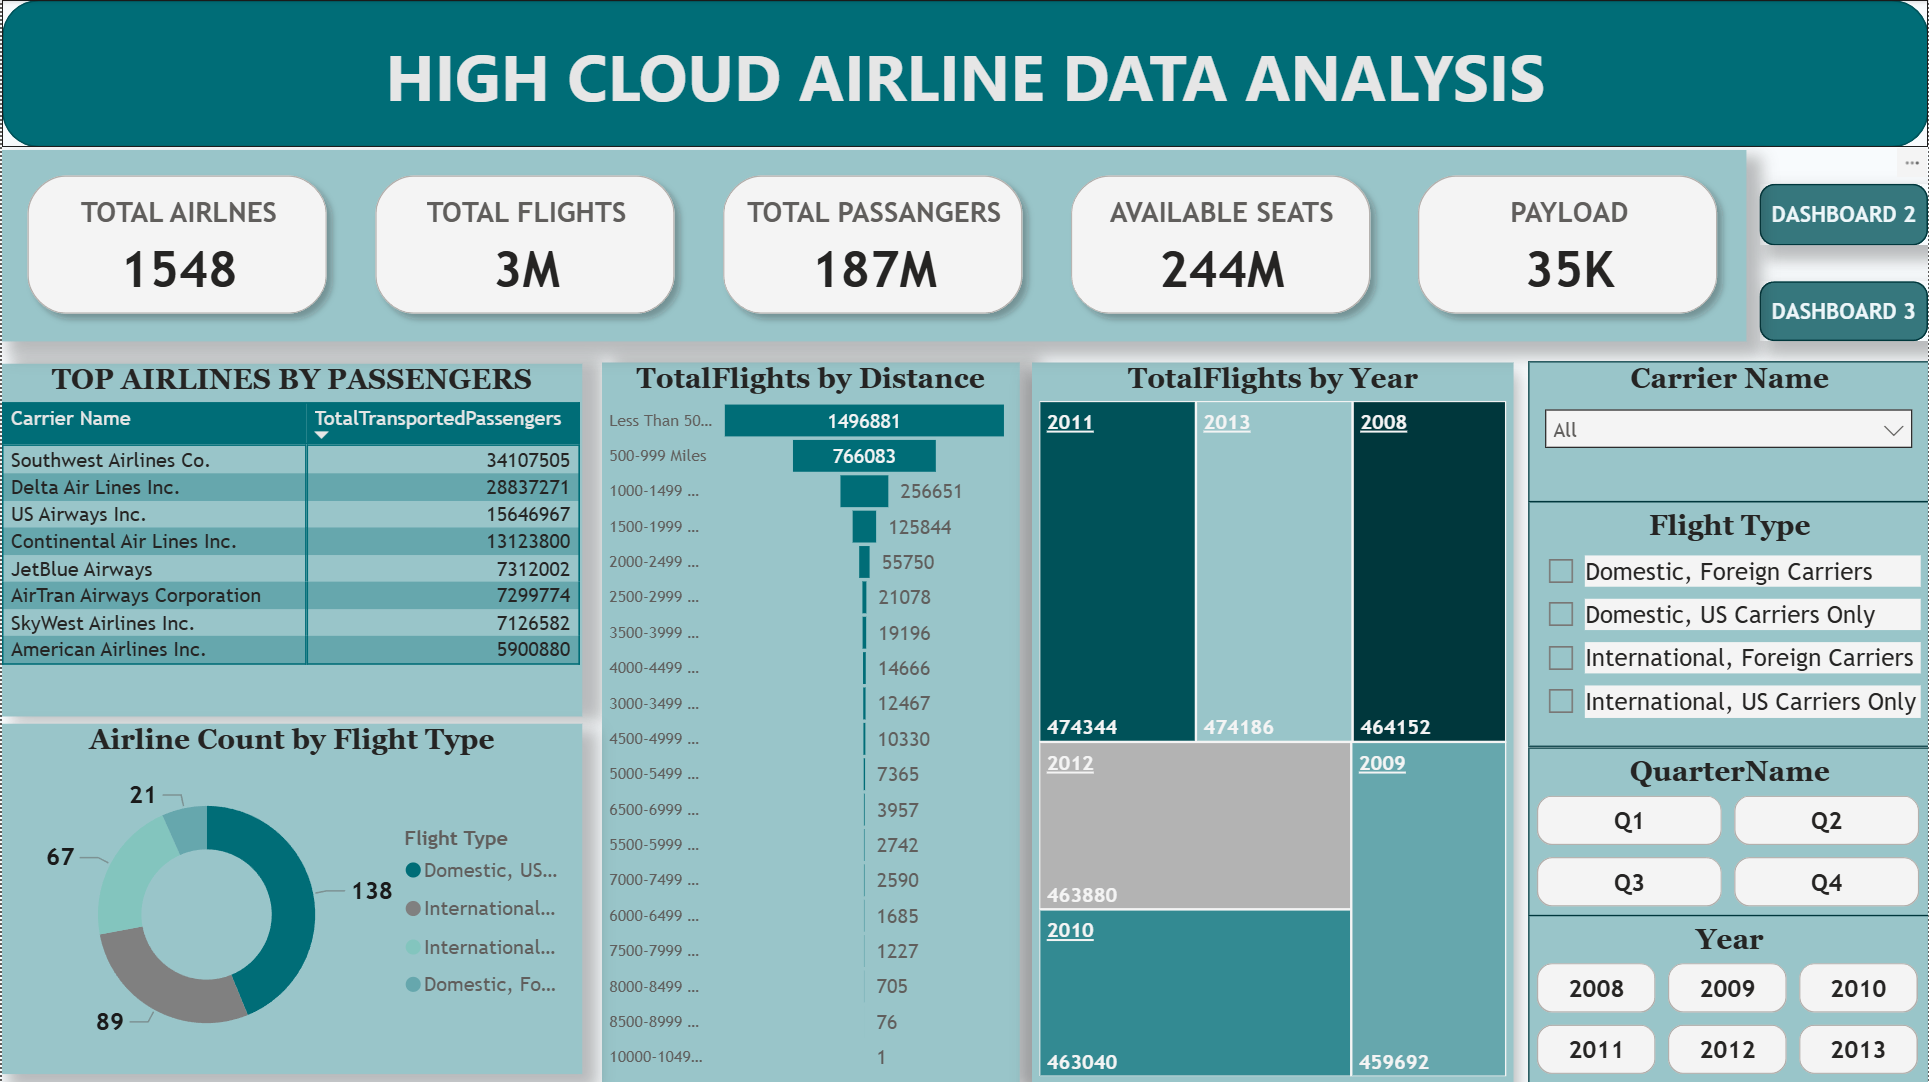

The dashboard page shown, as its layout file describes it:
{"tool":"powerbi","page":{"name":"DASHBOARD 1","canvas":[1280,720],"ordinal":0},"visuals":[{"type":"actionButton","box":[1168.1,121.9,112,41.1],"z":0},{"type":"actionButton","box":[1168.1,186.6,112,39.8],"z":1000},{"type":"pivotTable","title":"TOP AIRLINES BY PASSENGERS","fields":{"Rows":["MainData_Final.Carrier Name"],"Values":["MainData_Final.TotalTransportedPassengers"]},"box":[0,241.7,385.3,234.4],"z":2000},{"type":"funnel","title":"TotalFlights by Distance","fields":{"Category":["Distance Groups.Distance Interval"],"Y":["MainData_Final.TotalFlights"]},"box":[398.8,240.5,277.3,479.8],"z":3000},{"type":"shape","box":[0,0,1280.3,97.8],"z":4000},{"type":"treemap","fields":{"Group":["DateTable.Year"],"Values":["MainData_Final.TotalFlights"]},"box":[684.7,240.5,320.2,479.8],"z":5000},{"type":"donutChart","title":"Airline Count by Flight Type","fields":{"Category":["Flight Types.Flight Type"],"Y":["CountNonNull(Airlines.Airline ID)"]},"box":[0,481,385.3,233.1],"z":6000},{"type":"cardVisual","title":"TOTAL AIRLINE","fields":{"Data":["CountNonNull(Airlines.Airline ID)","MainData_Final.TotalFlights","MainData_Final.TotalTransportedPassengers","MainData_Final.TotalAvailableSeats","Count(MainData_Final.Payload)"]},"box":[0,99.5,1159.4,126.9],"z":7000},{"type":"advancedSlicerVisual","title":"Year","fields":{"Values":["DateTable.Year"]},"box":[1013.8,608.3,266.2,112],"z":8000},{"type":"slicer","title":"Flight Type ","fields":{"Values":["Flight Types.Flight Type"]},"box":[1013.8,333.4,266.2,163],"z":9000},{"type":"slicer","title":"Carrier Name","fields":{"Values":["MainData_Final.Carrier Name"]},"box":[1013.8,240.1,266.2,93.3],"z":10000},{"type":"advancedSlicerVisual","fields":{"Values":["DateTable.QuarterName"]},"box":[1013.8,496.3,266.2,112],"z":11000}]}

Visuals, with their boxes in screenshot pixels (x1, y1, x2, y2), scaled from the page's 1280x720 canvas onto the 1929x1082 screenshot:
actionButton: region(1760, 183, 1928, 245)
actionButton: region(1760, 280, 1928, 340)
"TOP AIRLINES BY PASSENGERS" pivotTable: region(0, 363, 581, 715)
"TotalFlights by Distance" funnel: region(601, 361, 1019, 1081)
shape: region(0, 0, 1928, 147)
treemap - DateTable.Year x MainData_Final.TotalFlights: region(1032, 361, 1514, 1081)
"Airline Count by Flight Type" donutChart: region(0, 723, 581, 1073)
"TOTAL AIRLINE" cardVisual: region(0, 150, 1747, 340)
"Year" advancedSlicerVisual: region(1528, 914, 1928, 1081)
"Flight Type " slicer: region(1528, 501, 1928, 746)
"Carrier Name" slicer: region(1528, 361, 1928, 501)
advancedSlicerVisual - DateTable.QuarterName: region(1528, 746, 1928, 914)
